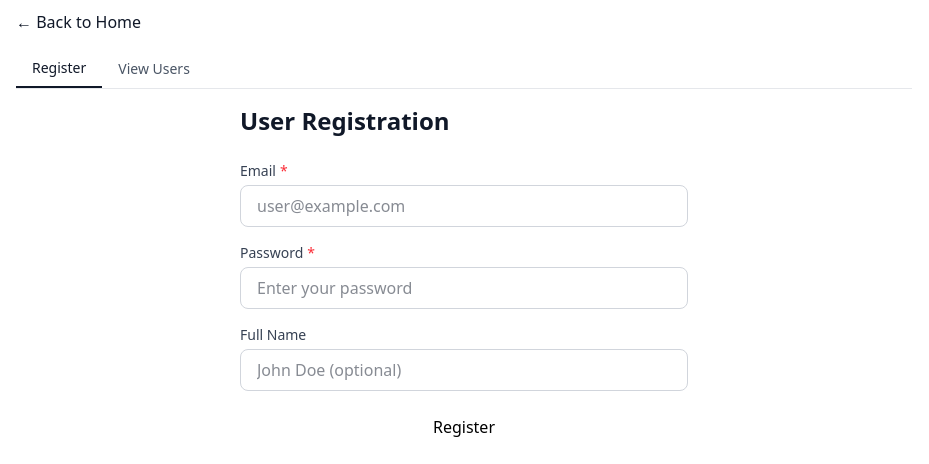
it: Registration Page › shows loading state
This screenshot has width=929, height=464.
Step 1. Type "test@example.com" into the field labelled "Email*" → point(464, 206), box [240,185,688,227]
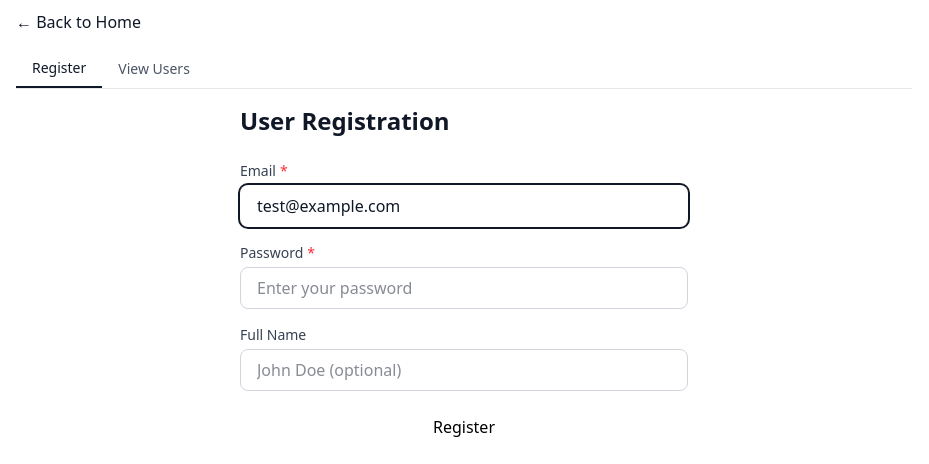
Step 2. Type "password123" into the password field labelled "Password*" → point(464, 288), box [240,267,688,309]
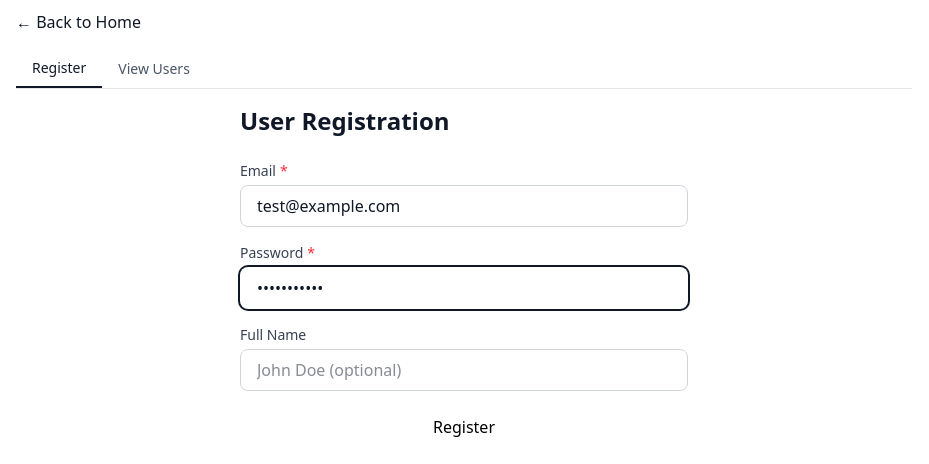
Step 3. Click the button "Register" → point(464, 427), box [240,407,688,447]
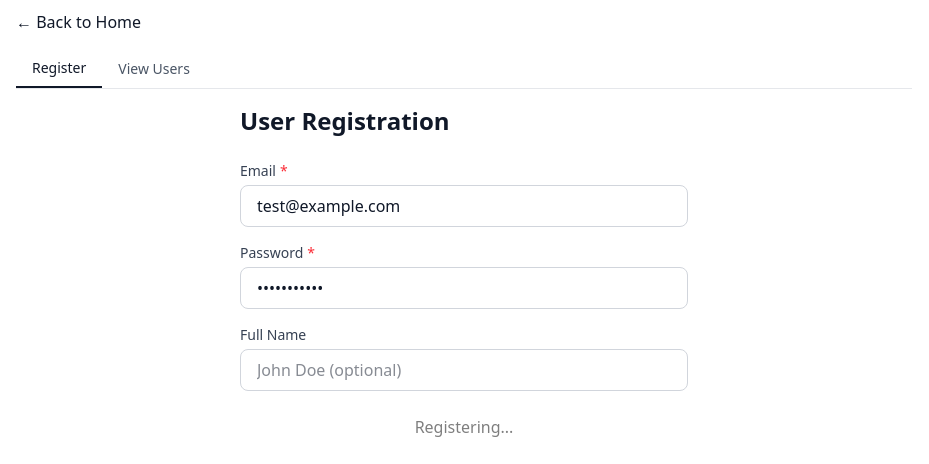
Check: the button "Registering..." is disabled, box [240,407,688,447]
